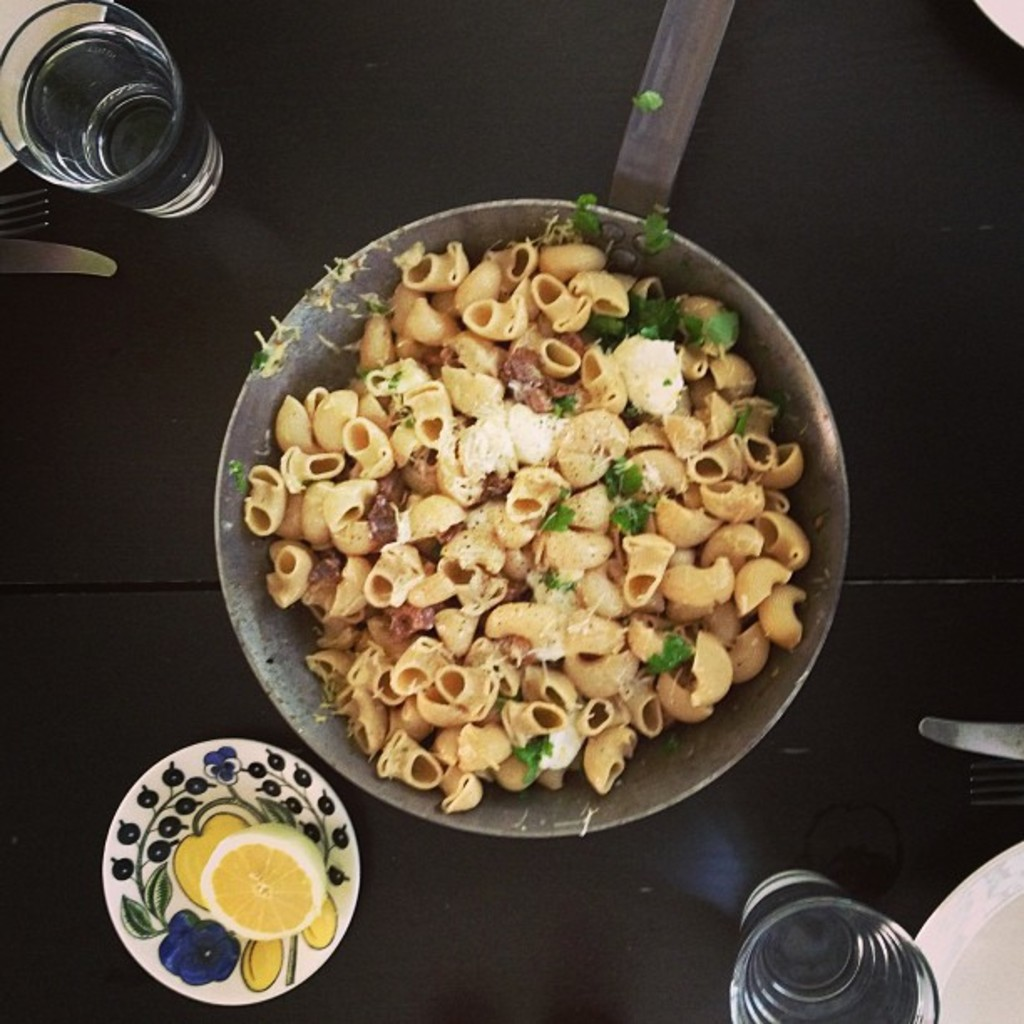plate: (112, 739, 358, 1000)
